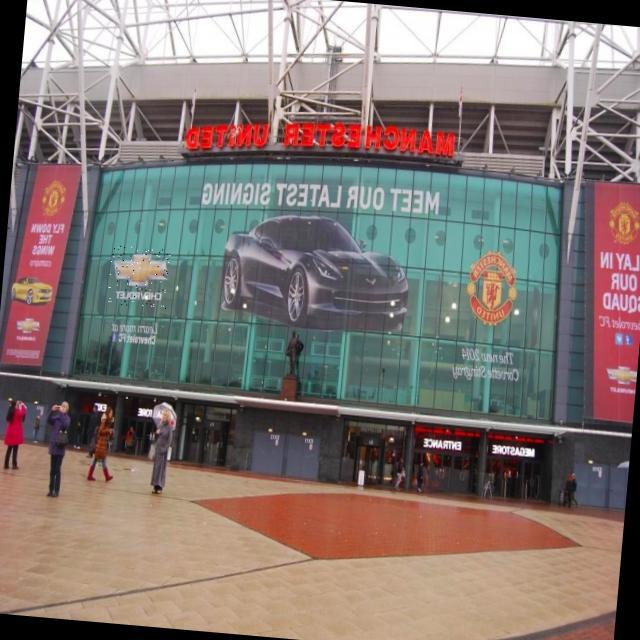Chevrolet: (107, 245, 171, 310)
